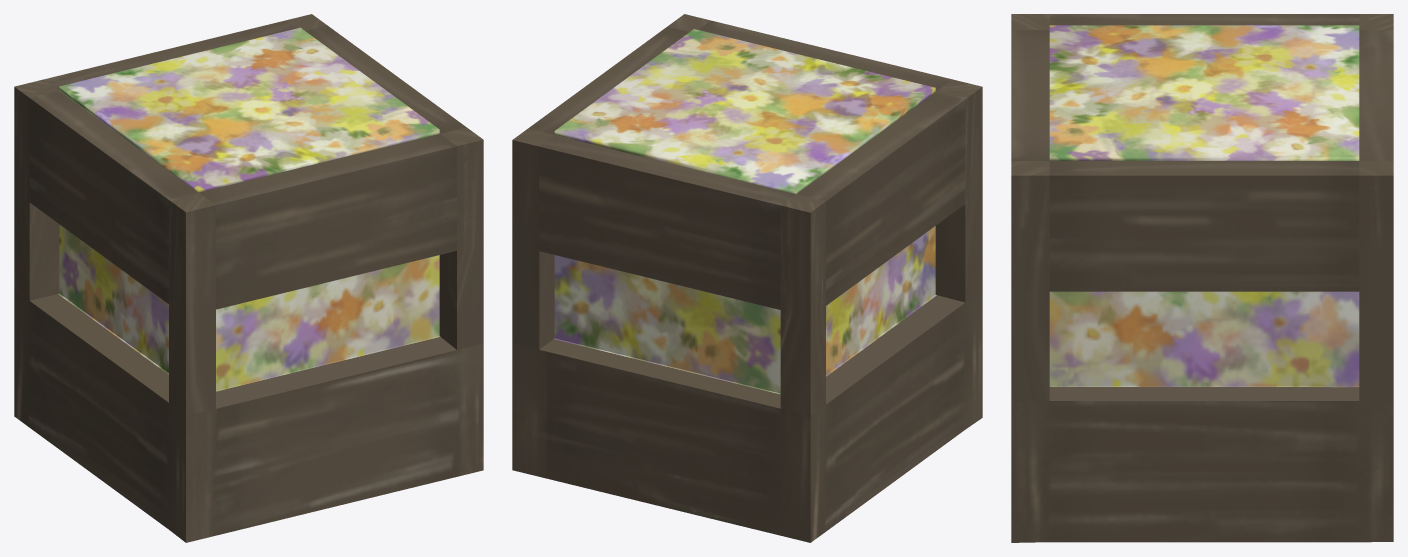
The model's file is hako.fbx.
The picture shows the model from 3 angles, left to right: view 1: azimuth 30°, elevation 25°; view 2: azimuth 150°, elevation 25°; view 3: azimuth 270°, elevation 25°; orthographic projection. The views are drawn at different scales.
Visible parts, largest first — view 1: pCube3; view 2: pCube3; view 3: pCube3.
Part boxes in pixels (bbox=[...]): pCube3: bbox=[14, 14, 483, 542]; pCube3: bbox=[512, 14, 982, 542]; pCube3: bbox=[1011, 14, 1393, 542].
Bounding box in the file's own units: 50 × 54.37 × 50.
